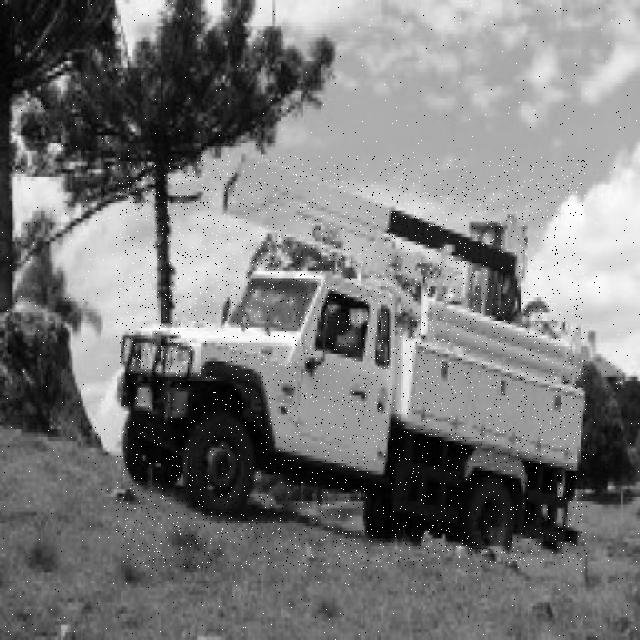Pickup- Utility: (116, 156, 587, 568)
